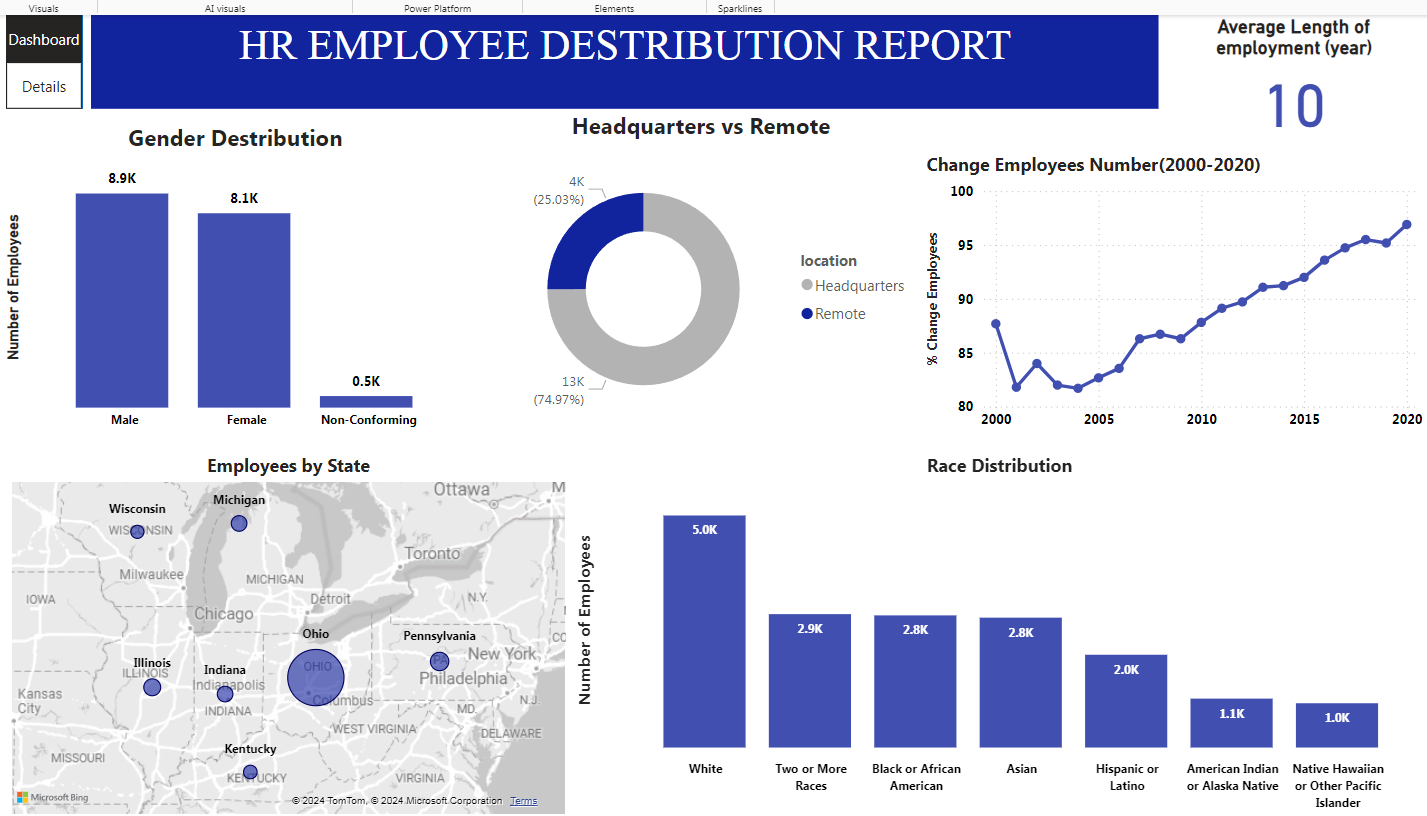

Layout of this report page (visuals, bound fields, positions):
{"tool":"powerbi","page":{"name":"Dashboard","canvas":[1280,720],"ordinal":0},"visuals":[{"type":"textbox","box":[82.4,0,956.4,84.2],"z":0},{"type":"card","title":"Average Length  of employment (year)","fields":{"Values":["Sum(avg_length_employment.avg_length_employment)"]},"box":[1038.8,0,241.2,109.9],"z":1000},{"type":"columnChart","title":"Gender Destribution","fields":{"Y":["Sum(gender.count)"],"Category":["gender.gender"]},"box":[0,94.9,423.6,285.7],"z":2000},{"type":"donutChart","title":"Headquarters vs Remote","fields":{"Category":["location.location"],"Y":["Sum(location.count)"]},"box":[431.6,84.2,394,295.5],"z":3000},{"type":"lineChart","title":"Change Employees Number(2000-2020)","fields":{"Category":["employee_change_percent.year"],"Y":["Sum(employee_change_percent.net_change_percent)"]},"box":[825.7,122.7,454,257.9],"z":4000},{"type":"map","title":"Employees by State","fields":{"Category":["location_state.location_state"],"Size":["Sum(location_state.count)"]},"box":[6.3,392.2,506,327.8],"z":5000},{"type":"clusteredColumnChart","title":"Race Distribution","fields":{"Category":["race.race"],"Y":["Sum(race.count)"]},"box":[512.2,392.2,767.5,327.8],"z":6000},{"type":"shape","box":[6.3,0,69,84.2],"z":7000},{"type":"pageNavigator","box":[6.3,0,69,42.1],"z":8000},{"type":"pageNavigator","box":[6.3,42.1,69,42.1],"z":9000}]}

Visuals, with their boxes on the page's 1280x720 design canvas (x1, y1, x2, y2). These are canvas units, not pixel positions in the 1427x816 screenshot, which may show the page scaled, cropped or inside an application window:
textbox: select_region(82, 0, 1039, 84)
"Average Length  of employment (year)" card: select_region(1039, 0, 1280, 110)
"Gender Destribution" columnChart: select_region(0, 95, 424, 381)
"Headquarters vs Remote" donutChart: select_region(432, 84, 826, 380)
"Change Employees Number(2000-2020)" lineChart: select_region(826, 123, 1280, 381)
"Employees by State" map: select_region(6, 392, 512, 720)
"Race Distribution" clusteredColumnChart: select_region(512, 392, 1280, 720)
shape: select_region(6, 0, 75, 84)
pageNavigator: select_region(6, 0, 75, 42)
pageNavigator: select_region(6, 42, 75, 84)
